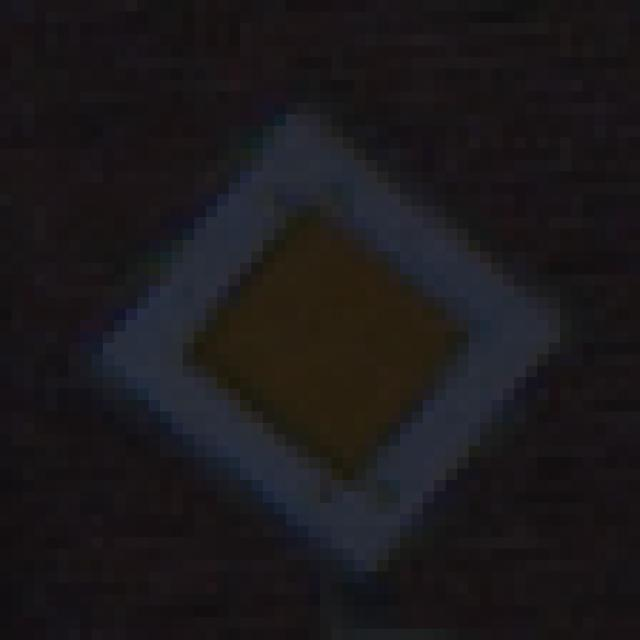Main Road: (58, 58, 584, 584)
